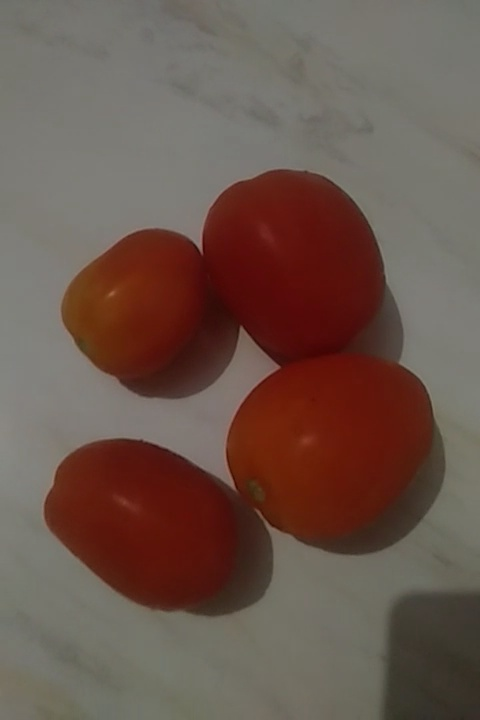tomato: (228, 346, 427, 553), (41, 416, 238, 616), (215, 177, 378, 366), (63, 229, 218, 376)
